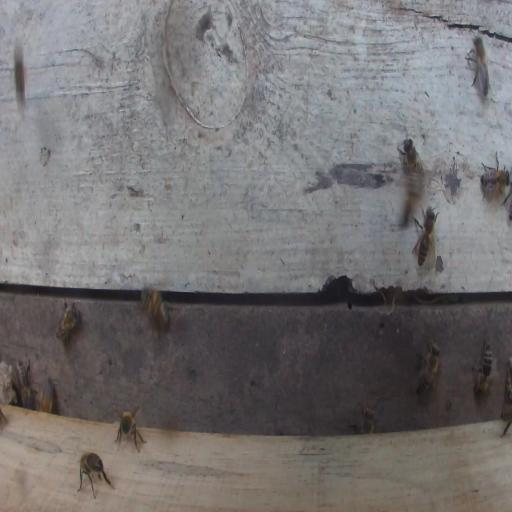bee: (77, 450, 113, 498), (412, 206, 438, 268), (465, 37, 491, 97), (114, 406, 146, 453), (139, 285, 171, 332), (480, 150, 510, 200), (416, 340, 441, 396), (471, 337, 493, 397), (55, 300, 81, 341), (397, 137, 425, 175), (349, 402, 378, 435), (17, 359, 35, 409), (39, 375, 55, 414), (500, 406, 512, 438)
